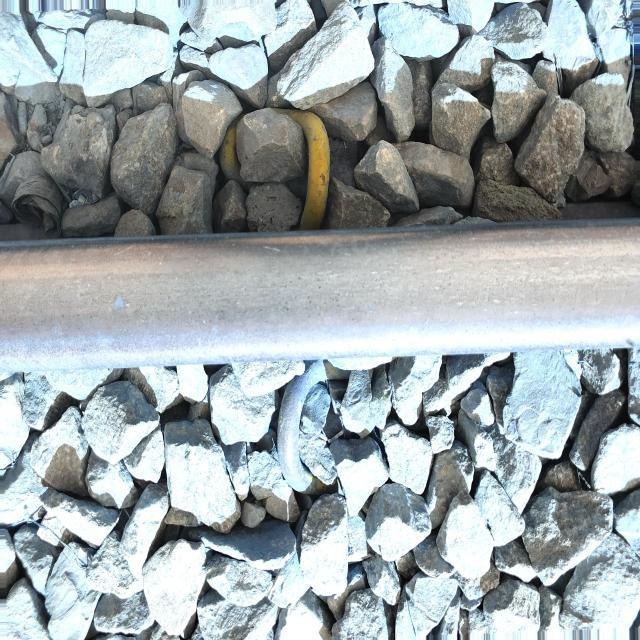Good Fasteners: (214, 93, 338, 238), (277, 360, 327, 489)
